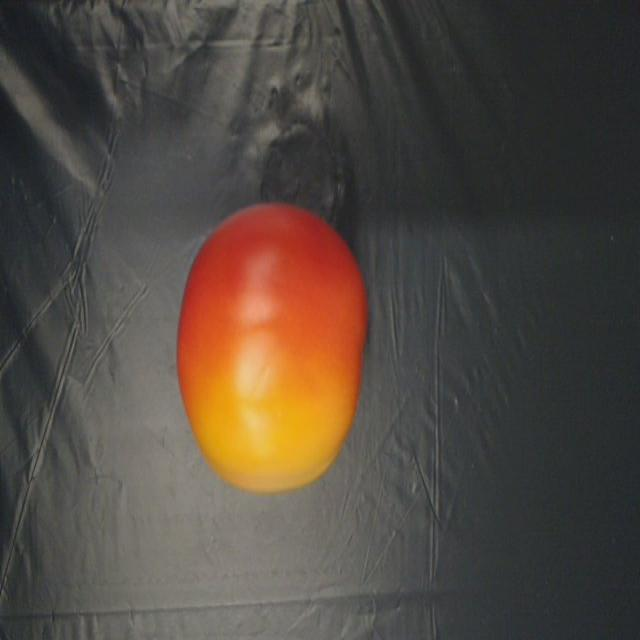sari: (163, 200, 376, 499)
